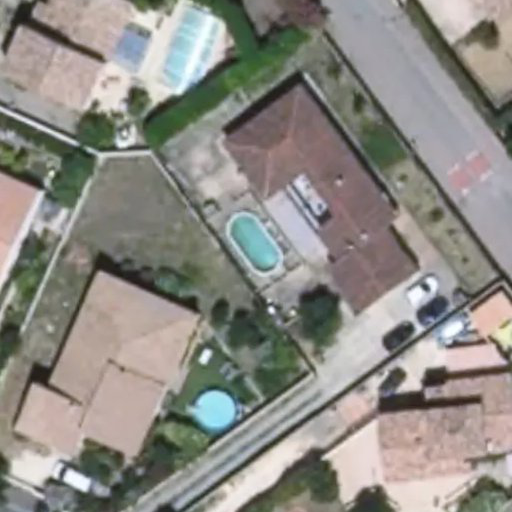pool: (224, 224, 287, 259)
